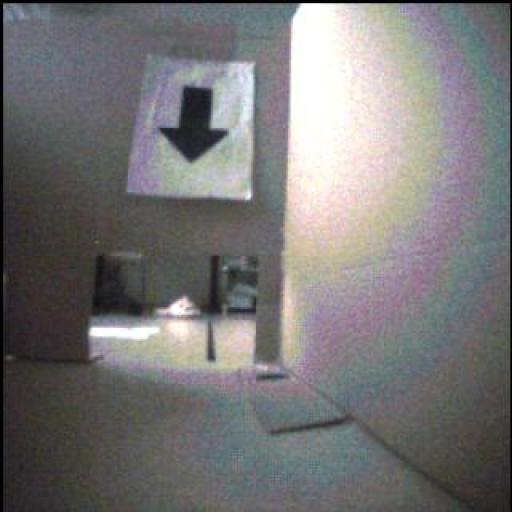arrow: (161, 88, 230, 163)
